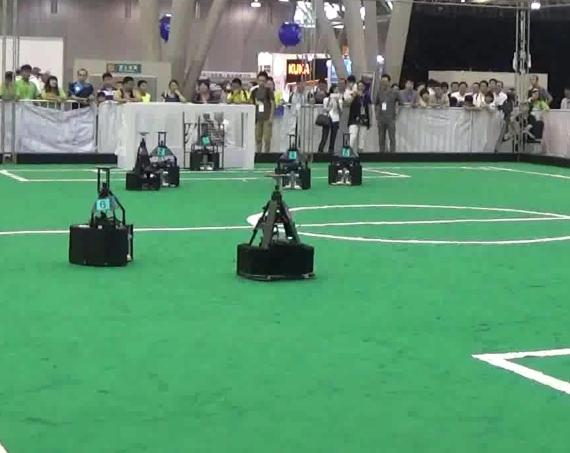robot: (231, 170, 317, 283), (67, 165, 136, 269), (272, 131, 313, 192), (122, 128, 161, 192), (325, 132, 366, 188), (145, 130, 182, 188), (186, 120, 225, 172)
